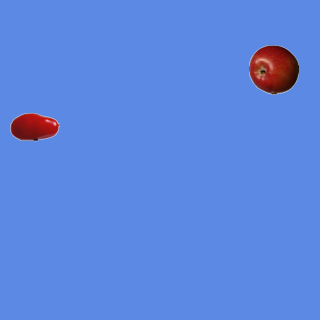Apple Braeburn: (248, 44, 298, 94)
Tomato 2: (9, 101, 59, 151)
